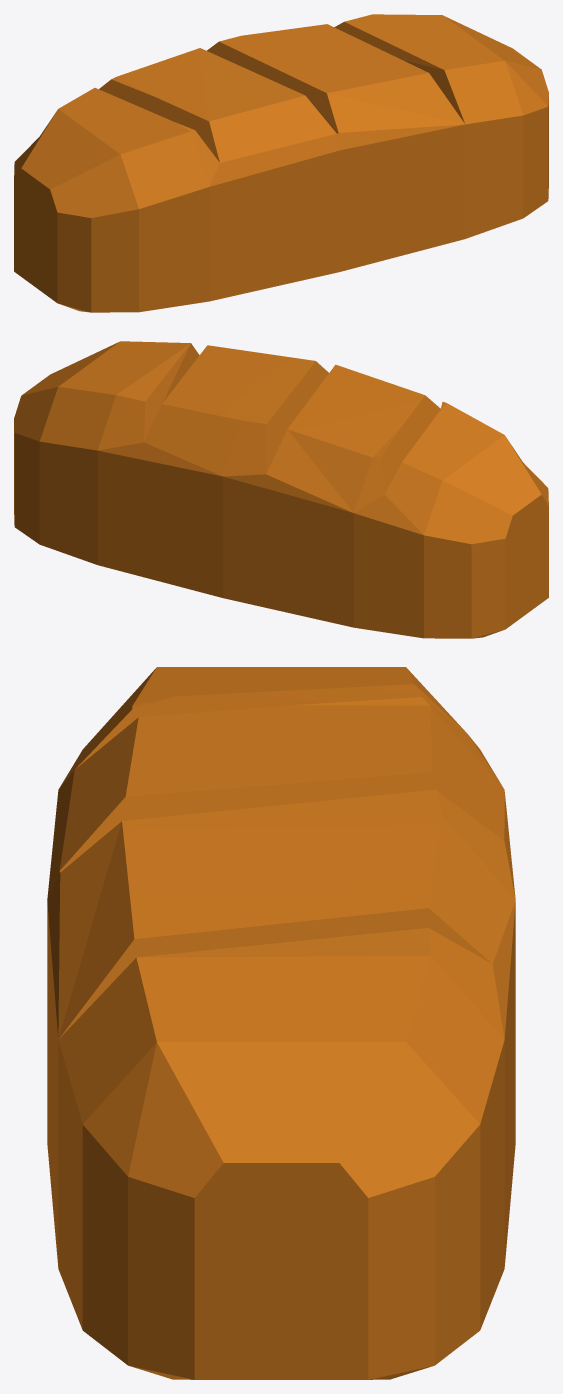
The model's file is Bread.fbx.
3 renders of one model, top to bottom at view 1: azimuth 30°, elevation 25°; view 2: azimuth 150°, elevation 25°; view 3: azimuth 270°, elevation 25°, orthographic. The views are drawn at different scales.
Visible parts, largest first — view 1: Bread; view 2: Bread; view 3: Bread.
Part boxes in pixels (x1,y1,x2,y2): Bread: (14,14,548,312); Bread: (14,341,548,638); Bread: (47,667,515,1379).
Size of the model in its own units: 43.6 by 17.99 by 14.82.
1 material, 1 textured.
